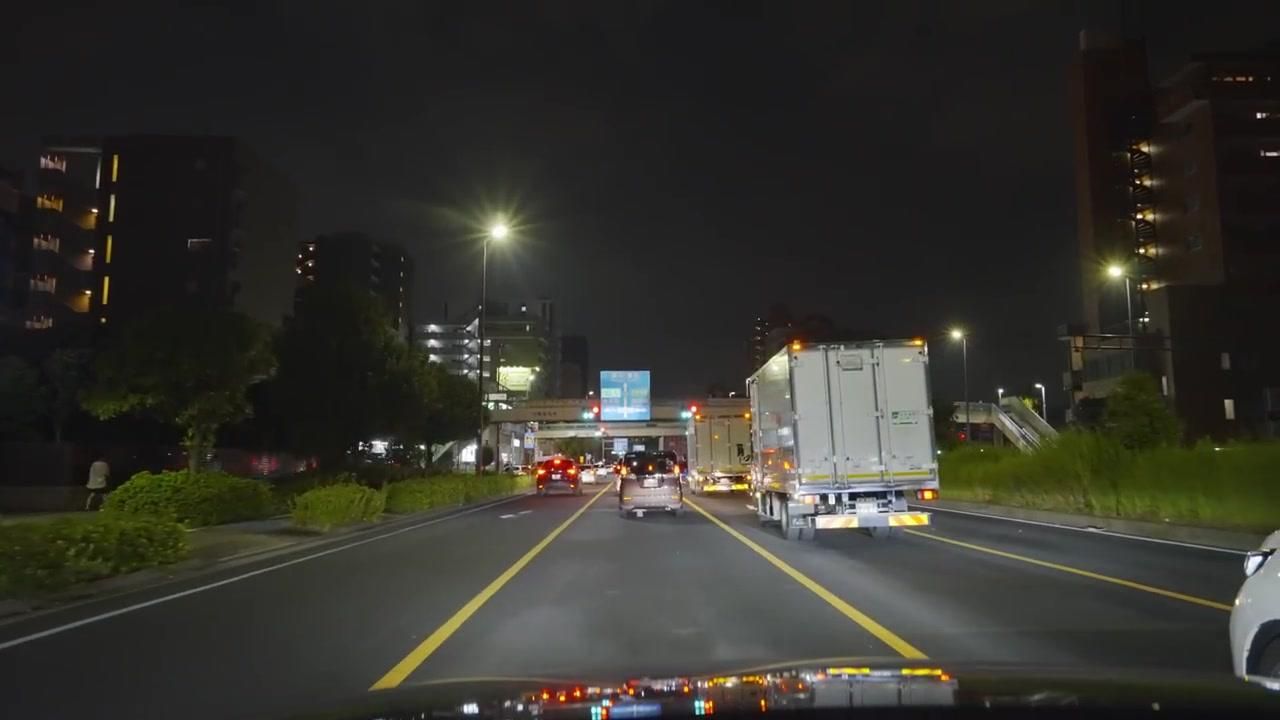car: (1229, 527, 1280, 691), (535, 455, 579, 496), (594, 466, 614, 480)
person: (84, 457, 111, 512)
traffic light: (295, 240, 318, 282)
truck: (745, 339, 941, 544), (691, 415, 753, 494), (618, 447, 683, 518)
